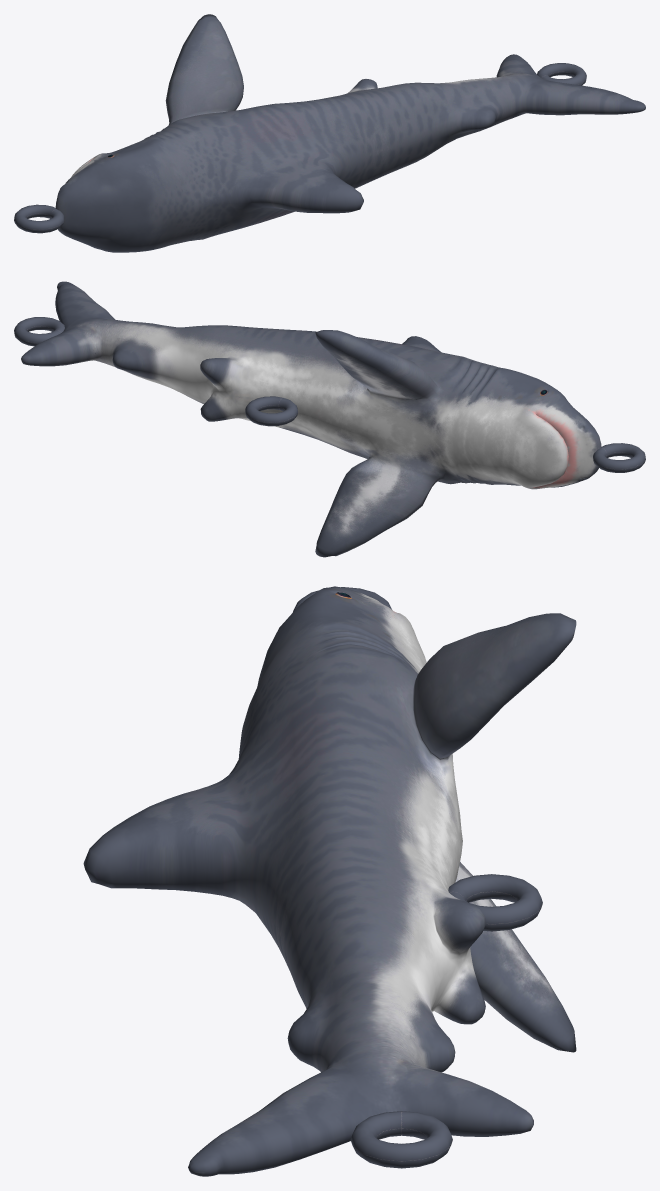
Rendered from 21937_Tiger_Shark_v1.obj.
The picture shows the model from 3 angles, top to bottom: view 1: azimuth 30°, elevation 25°; view 2: azimuth 150°, elevation 25°; view 3: azimuth 270°, elevation 25°; orthographic projection. The views are drawn at different scales.
Visible parts, largest first — view 1: 21937_Tiger_Shark_v1; view 2: 21937_Tiger_Shark_v1; view 3: 21937_Tiger_Shark_v1.
Part boxes in pixels (x1,y1,x2,y2): 21937_Tiger_Shark_v1: [14, 14, 645, 252]; 21937_Tiger_Shark_v1: [14, 281, 645, 557]; 21937_Tiger_Shark_v1: [83, 586, 576, 1176].
Size of the model in its own units: 10.14 by 3.51 by 3.65.
Materials: 1 (1 with a texture image).
